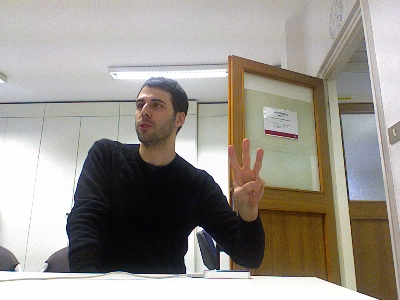三分: (227, 137, 265, 209)
